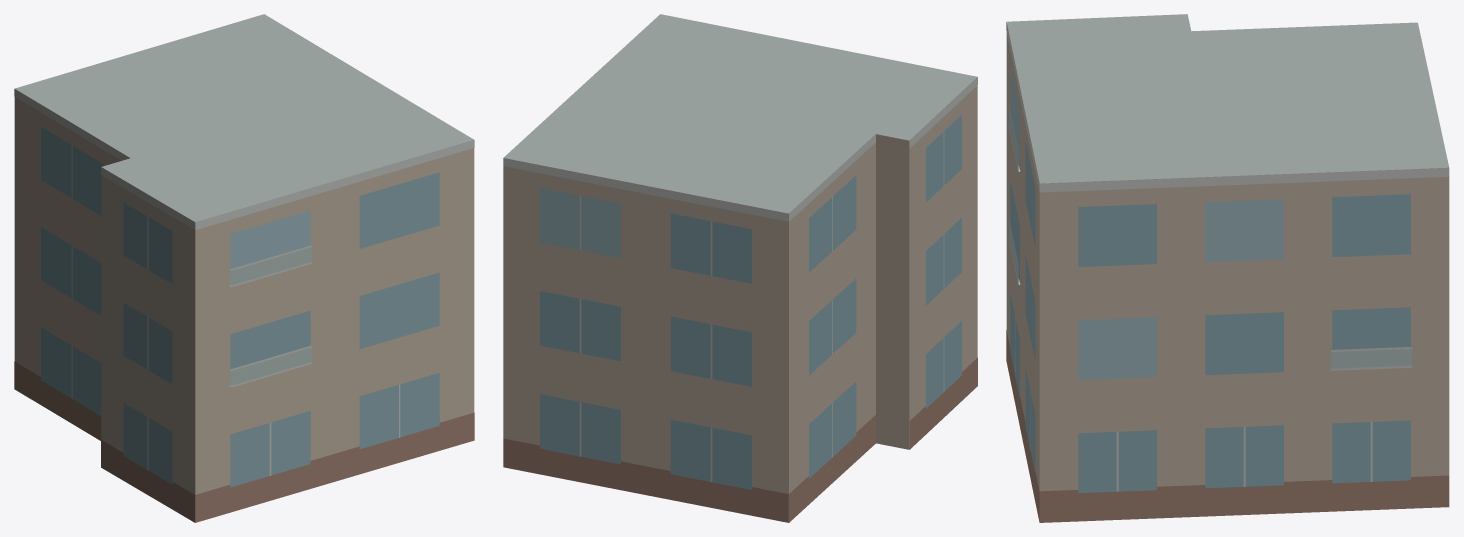
The model's file is survey-upis-32800911.glb.
The picture shows the model from 3 angles, left to right: view 1: azimuth 30°, elevation 25°; view 2: azimuth 150°, elevation 25°; view 3: azimuth 270°, elevation 25°; orthographic projection. The views are drawn at different scales.
Visible parts, largest first — view 1: survey-upis-32800911.tmp; view 2: survey-upis-32800911.tmp; view 3: survey-upis-32800911.tmp.
Boxes of the visible parts, x1=… form: survey-upis-32800911.tmp: x1=14, y1=14, x2=474, y2=522; survey-upis-32800911.tmp: x1=503, y1=14, x2=977, y2=522; survey-upis-32800911.tmp: x1=1006, y1=14, x2=1449, y2=522.
Size of the model in its own units: 9.81 by 9.15 by 10.83.
